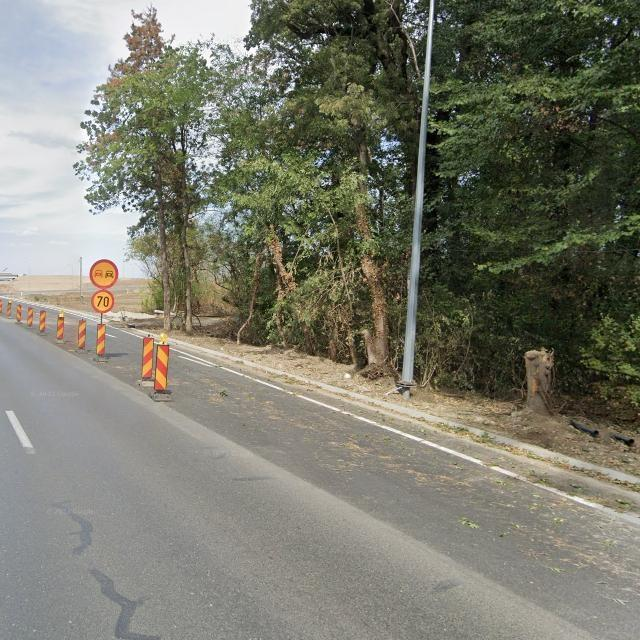forb_overtake: (89, 258, 118, 289)
forb_speed_over_70: (91, 290, 114, 314)
